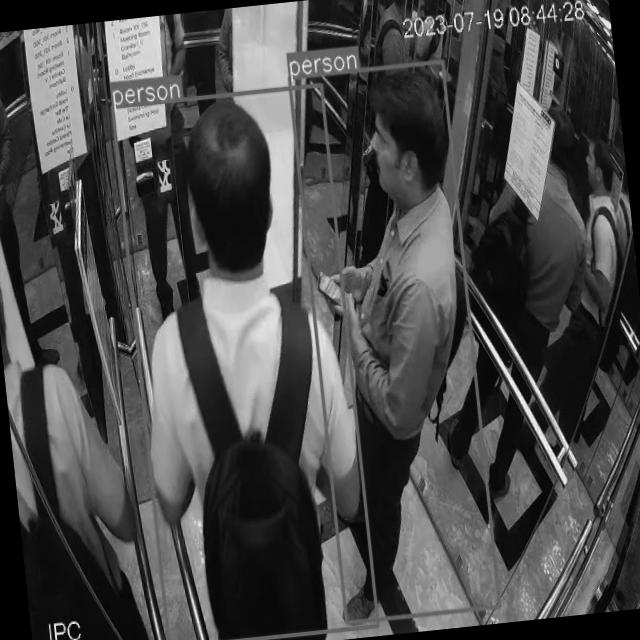person: (115, 85, 379, 640), (288, 63, 502, 622), (0, 200, 154, 640)
